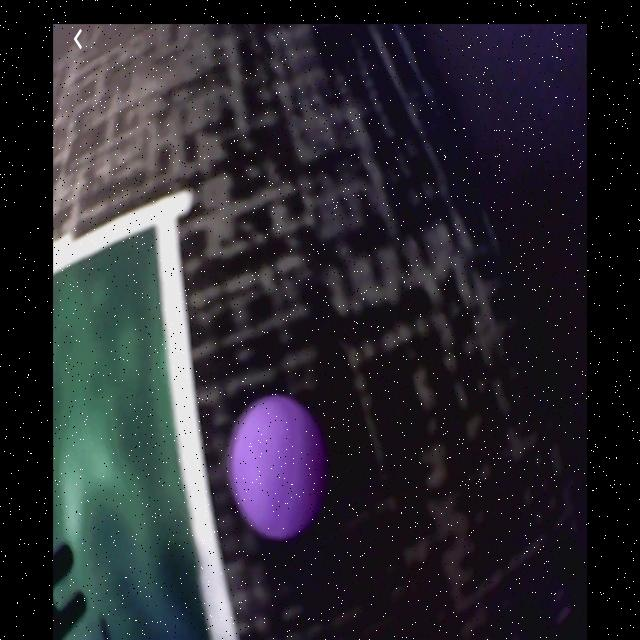ball: (230, 396, 324, 541)
